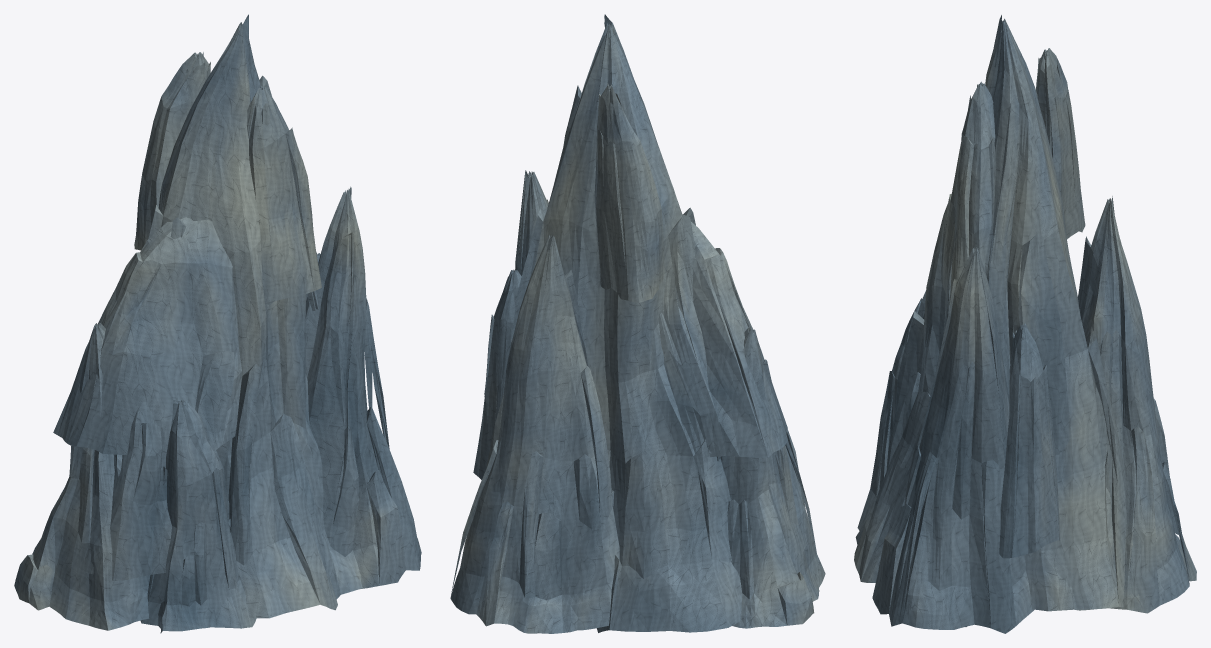
3 views of the same model, side by side, from view 1: azimuth 30°, elevation 25°; view 2: azimuth 150°, elevation 25°; view 3: azimuth 270°, elevation 25° (orthographic).
Visible parts, largest first — view 1: F11_stone; view 2: F11_stone; view 3: F11_stone.
Boxes of the visible parts, box(x1,y1,x2,y2) form: F11_stone: box(14, 14, 421, 633); F11_stone: box(450, 14, 825, 633); F11_stone: box(854, 15, 1196, 633).
Size of the model in its own units: 20.48 by 31.38 by 17.28.
Materials: 1 (1 with a texture image).
